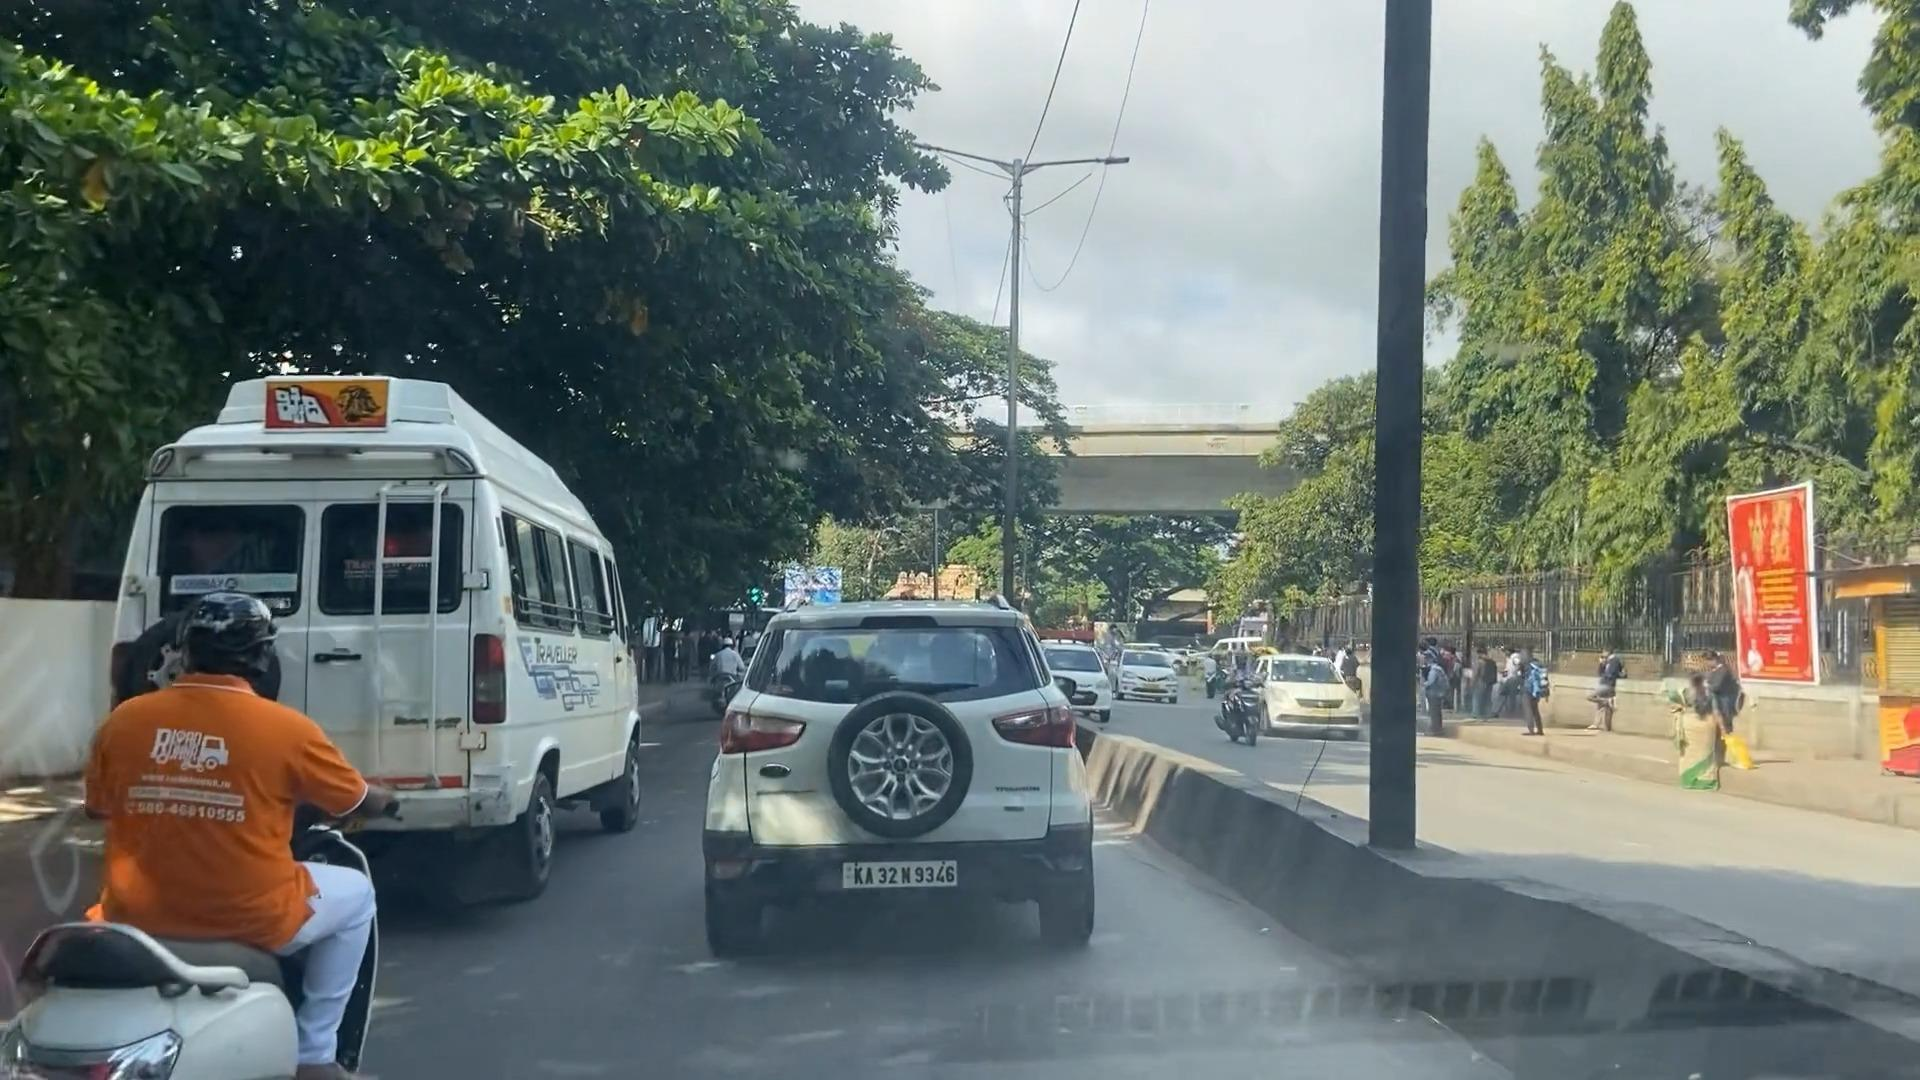HMV: (175, 385, 663, 893)
LMV: (83, 597, 381, 1080), (745, 603, 1109, 975)
